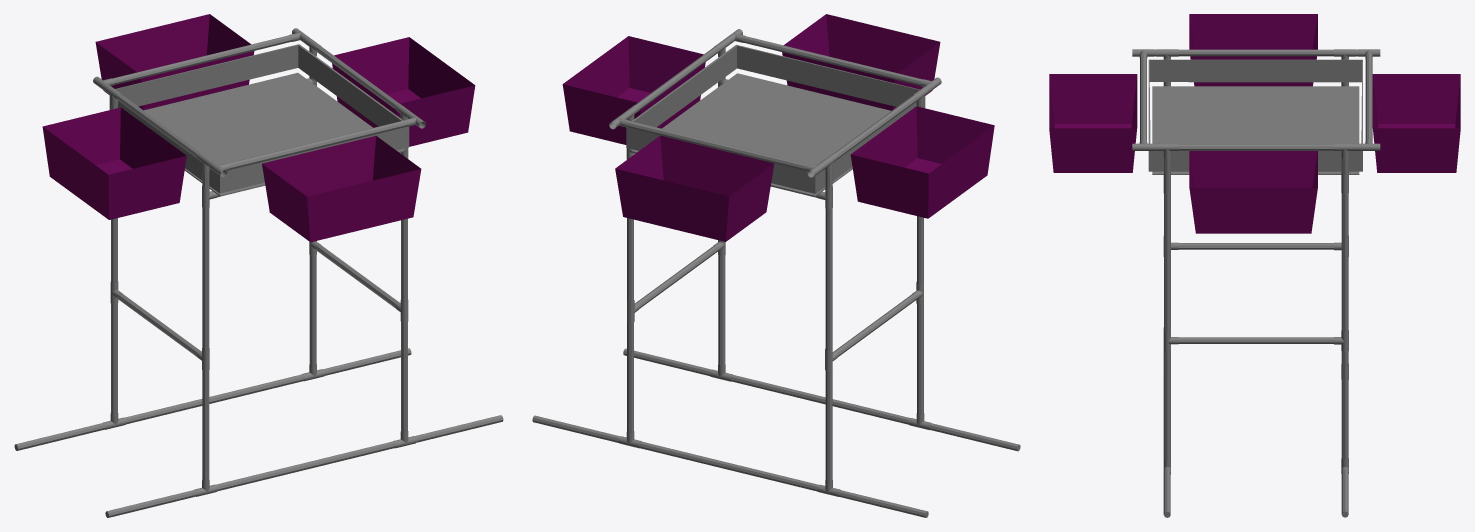
Rendered from collection_table.dae.
3 renders of one model, left to right at view 1: azimuth 30°, elevation 25°; view 2: azimuth 150°, elevation 25°; view 3: azimuth 270°, elevation 25°, orthographic. The views are drawn at different scales.
Visible parts, largest first — view 1: Cube.005, Cube.001, Cube.003, Cube.002, Cube; view 2: Cube.005, Cube, Cube.003, Cube.002, Cube.001; view 3: Cube.005, Cube.002, Cube.001, Cube, Cube.003.
Boxes of the visible parts, <box> form: Cube.005: <box>14,28,503,517</box>; Cube.001: <box>262,136,421,242</box>; Cube.003: <box>42,107,186,219</box>; Cube.002: <box>332,37,475,146</box>; Cube: <box>95,14,254,110</box>; Cube.005: <box>532,29,1020,517</box>; Cube: <box>615,135,774,241</box>; Cube.003: <box>850,106,994,218</box>; Cube.002: <box>562,36,705,144</box>; Cube.001: <box>782,14,940,110</box>; Cube.005: <box>1132,49,1380,517</box>; Cube.002: <box>1189,151,1317,233</box>; Cube.001: <box>1049,74,1137,172</box>; Cube: <box>1372,74,1460,172</box>; Cube.003: <box>1189,14,1317,86</box>.
Size of the model in its own units: 1.18 by 1.1 by 0.9667.
